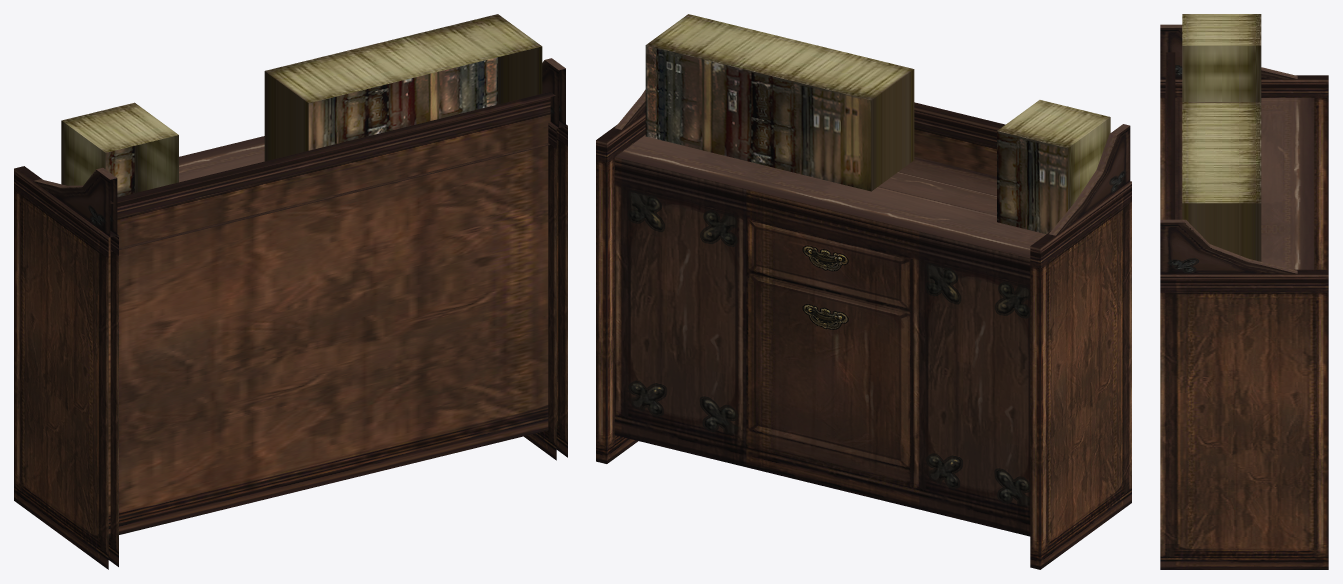
The model's file is furniture_k03.FBX.
3 views of the same model, side by side, from view 1: azimuth 30°, elevation 25°; view 2: azimuth 150°, elevation 25°; view 3: azimuth 270°, elevation 25° (orthographic). The views are drawn at different scales.
Visible parts, largest first — view 1: furniture_k03; view 2: furniture_k03; view 3: furniture_k03.
Boxes of the visible parts, x1,y1,x2,y2 form: furniture_k03: [14, 14, 567, 569]; furniture_k03: [596, 14, 1131, 569]; furniture_k03: [1160, 14, 1328, 569].
Size of the model in its own units: 2.04 by 1.72 by 0.727.
Materials: 1 (1 with a texture image).
